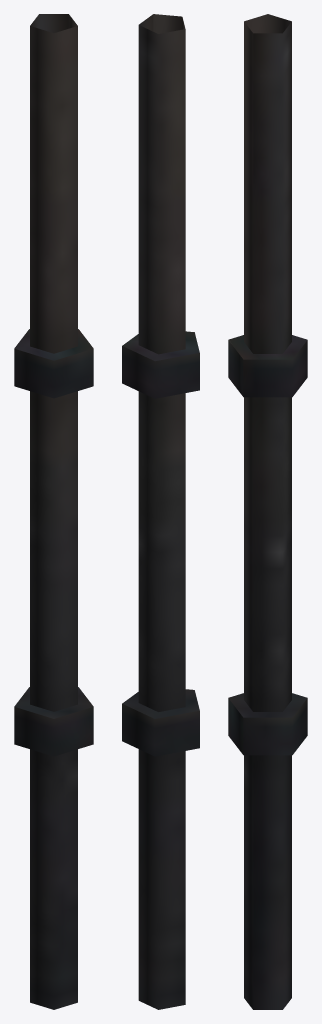
The model's file is Light_Wiring.FBX.
The picture shows the model from 3 angles, left to right: view 1: azimuth 90°, elevation 25°; view 2: azimuth 150°, elevation 25°; view 3: azimuth 270°, elevation 25°; orthographic projection.
Visible parts, largest first — view 1: Light_Wiring; view 2: Light_Wiring; view 3: Light_Wiring.
Boxes of the visible parts, x1=… form: Light_Wiring: x1=14, y1=14, x2=93, y2=1009; Light_Wiring: x1=122, y1=14, x2=199, y2=1009; Light_Wiring: x1=228, y1=14, x2=307, y2=1009.
Size of the model in its own units: 4.2 by 59.75 by 4.41.
